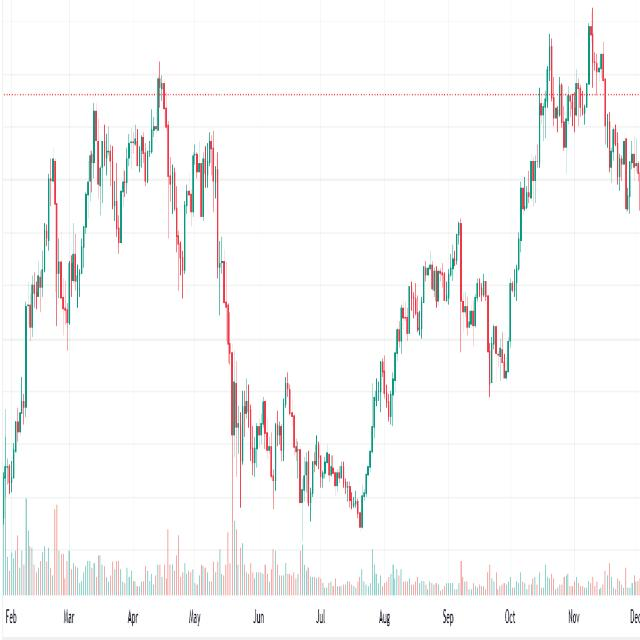Double-Top: (182, 116, 223, 238)
Rounding-Top: (16, 53, 238, 435), (364, 209, 508, 457)
